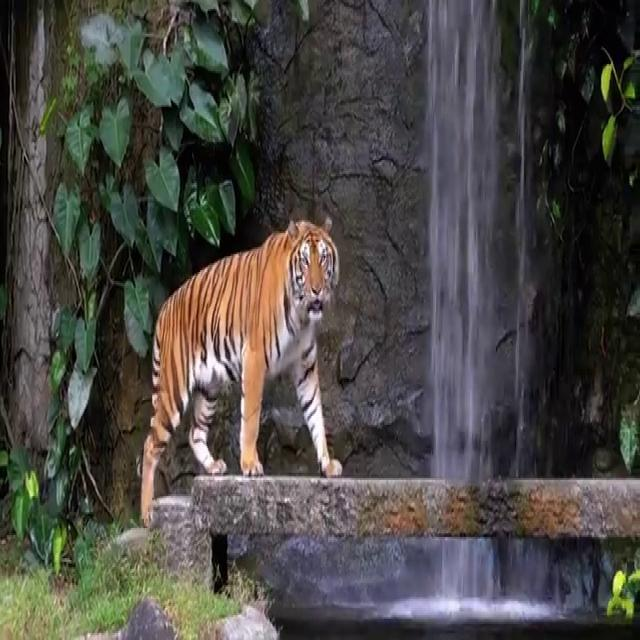tiger: (137, 215, 344, 533)
